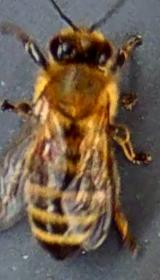varroa_mite: (22, 129, 58, 165)
